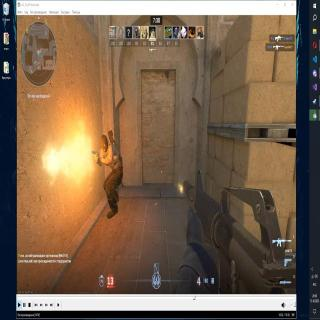T-Body: (95, 133, 127, 215)
T-Head: (98, 134, 110, 152)
